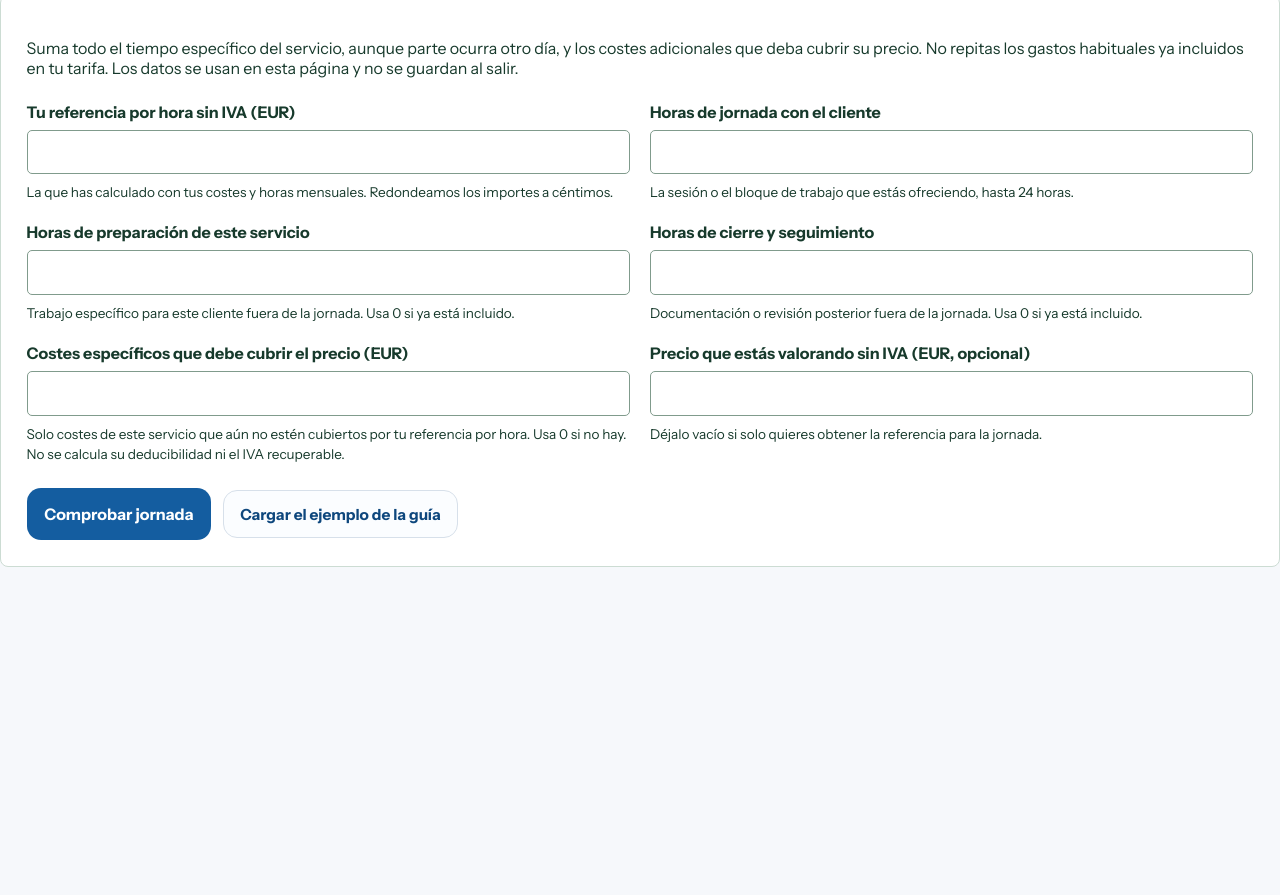
Test: day-rate planner › accepts Spanish decimals, calculates with Enter, and leaves comparison optional
The width and height of the screenshot is (1280, 895).
In the field labelled "Tu referencia por hora sin IVA (EUR)": (328, 152) [27, 130, 630, 174], type "50,50"
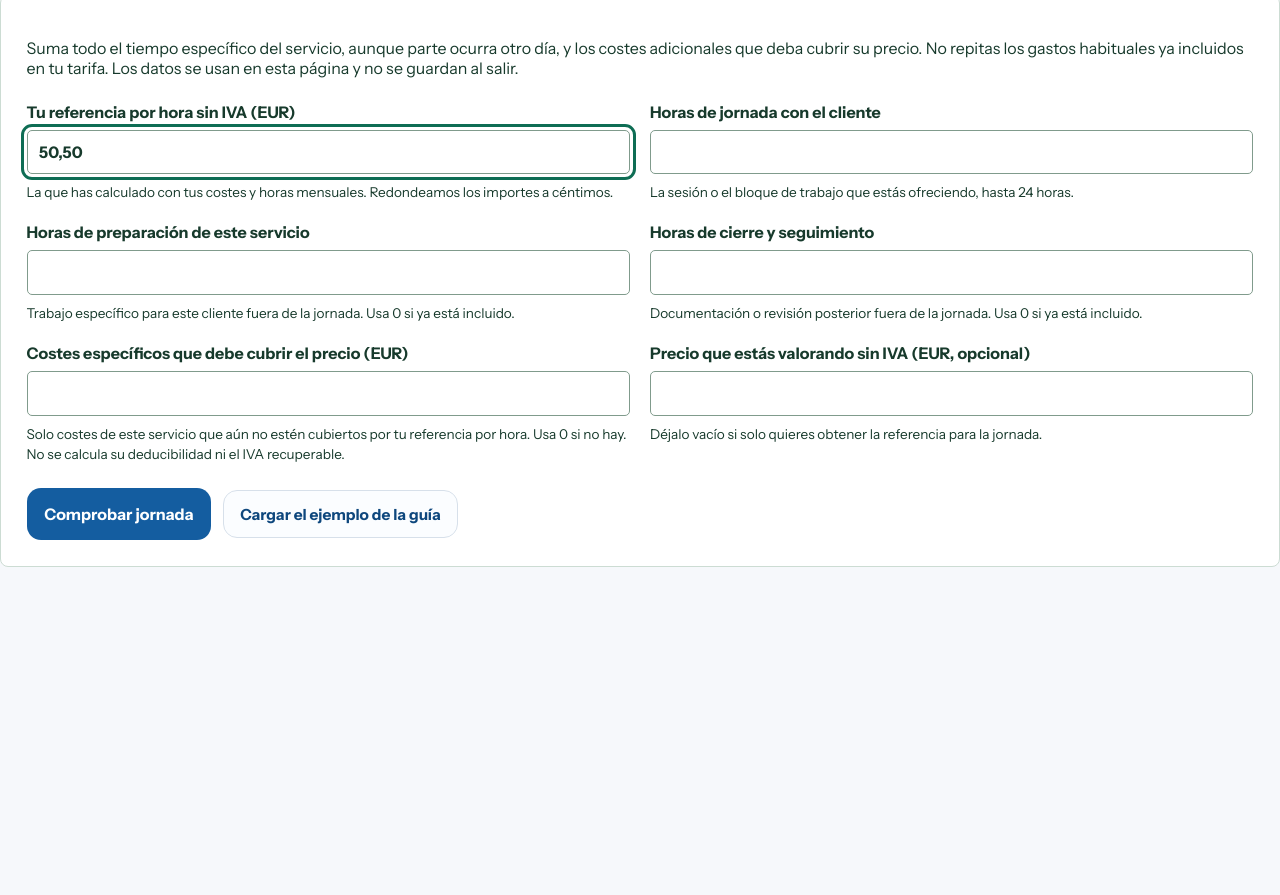
In the field labelled "Horas de jornada con el cliente": (952, 152) [650, 130, 1253, 174], type "4"
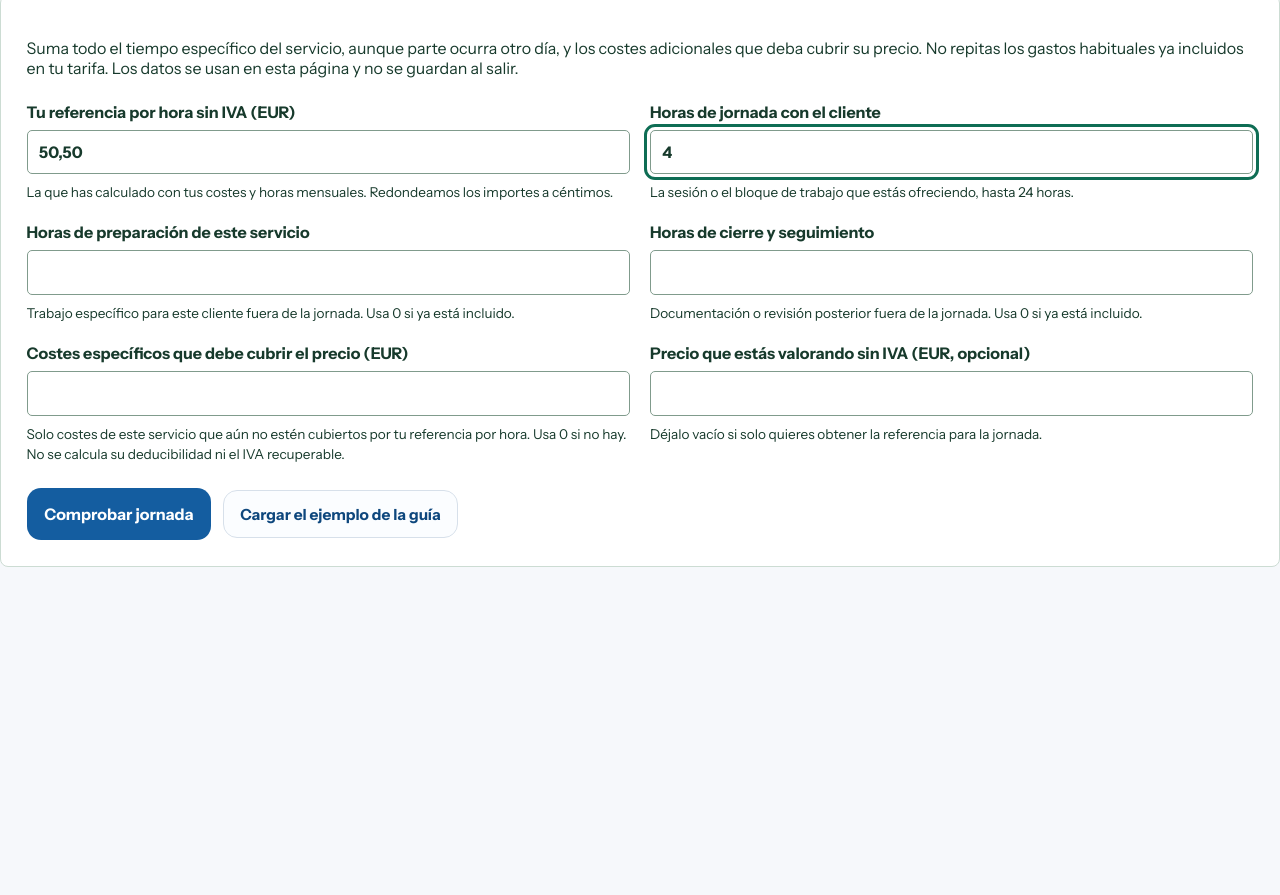
In the field labelled "Horas de preparación de este servicio": (328, 273) [27, 250, 630, 295], type "1,5"
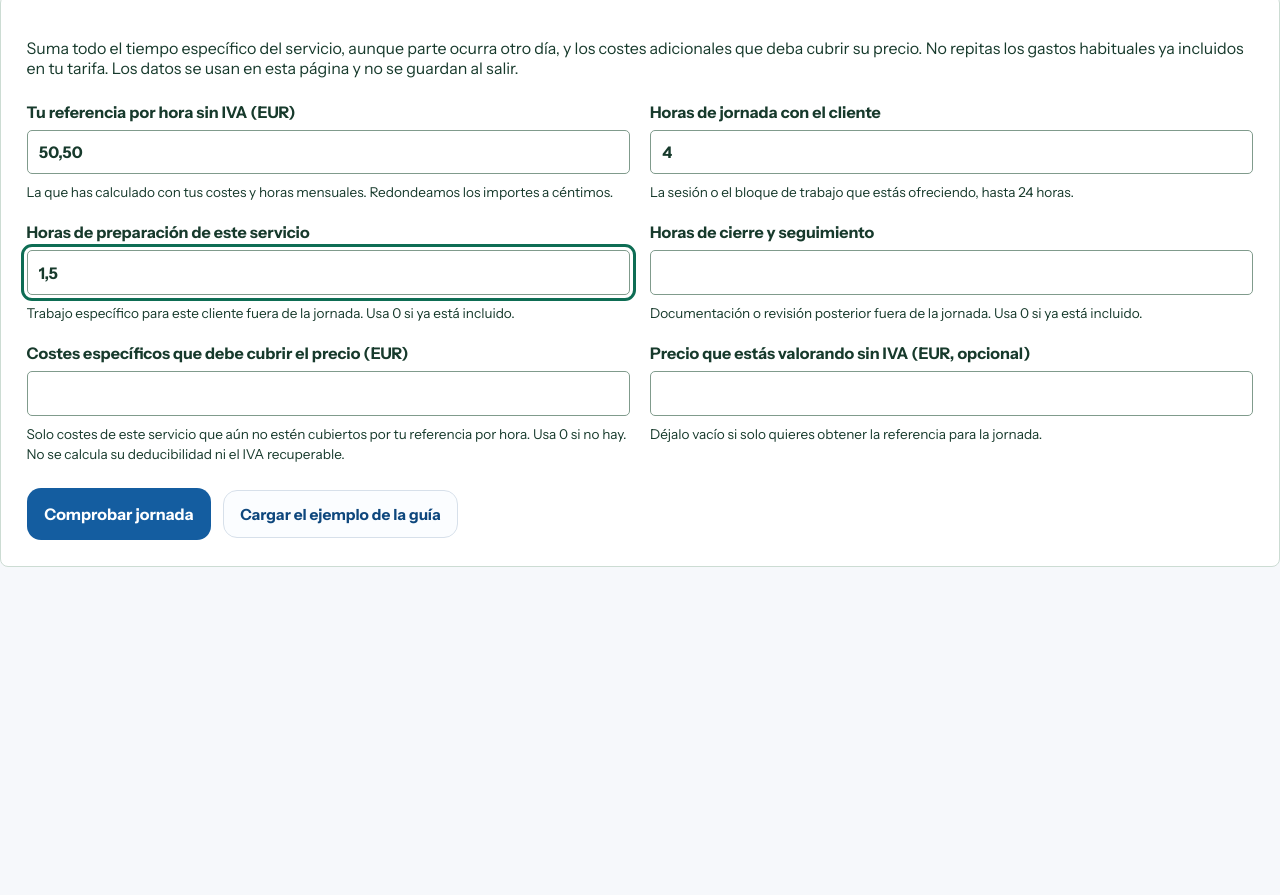
In the field labelled "Horas de cierre y seguimiento": (952, 273) [650, 250, 1253, 295], type "0,5"
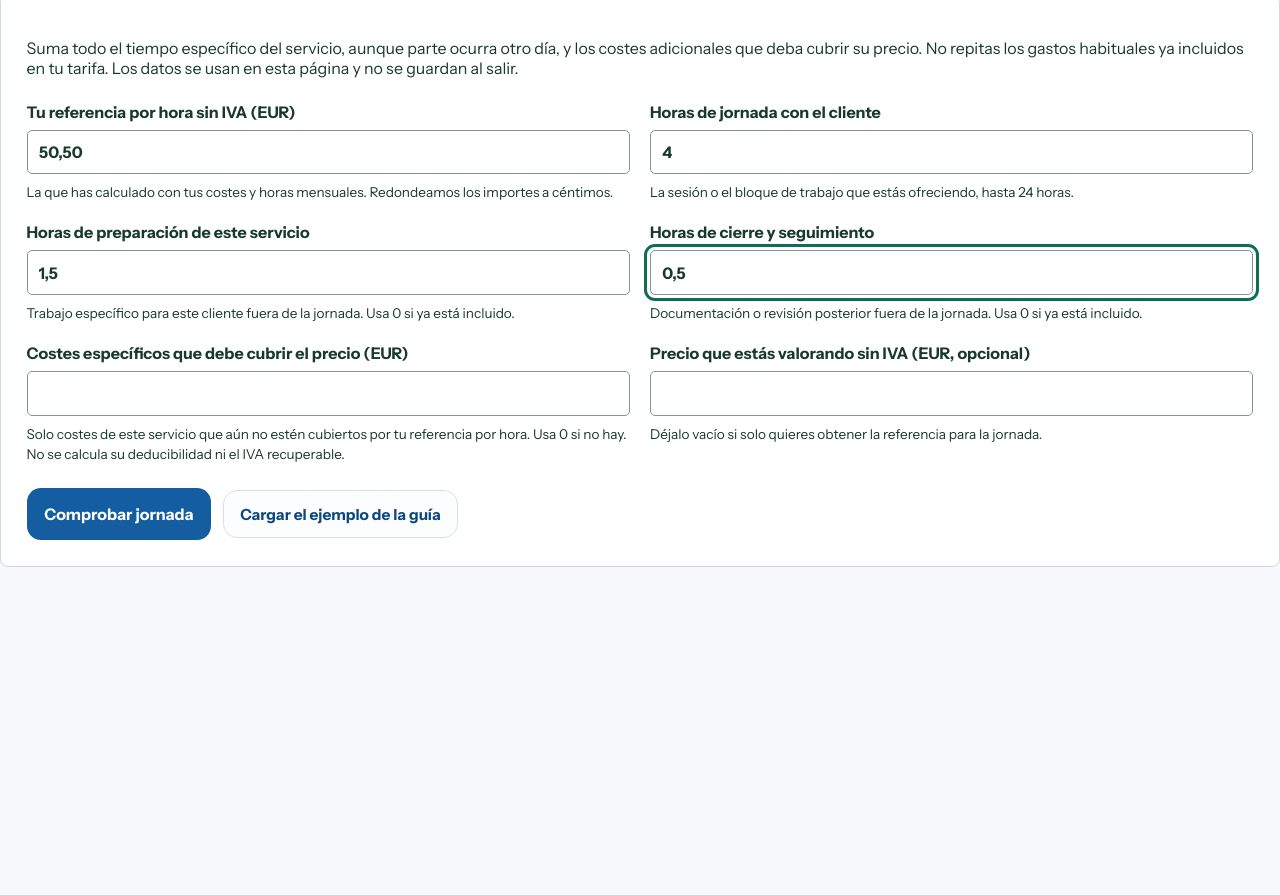
In the field labelled "Costes específicos que debe cubrir el precio (EUR)": (328, 393) [27, 371, 630, 416], type "0"
Then press Enter
(page scrolled)
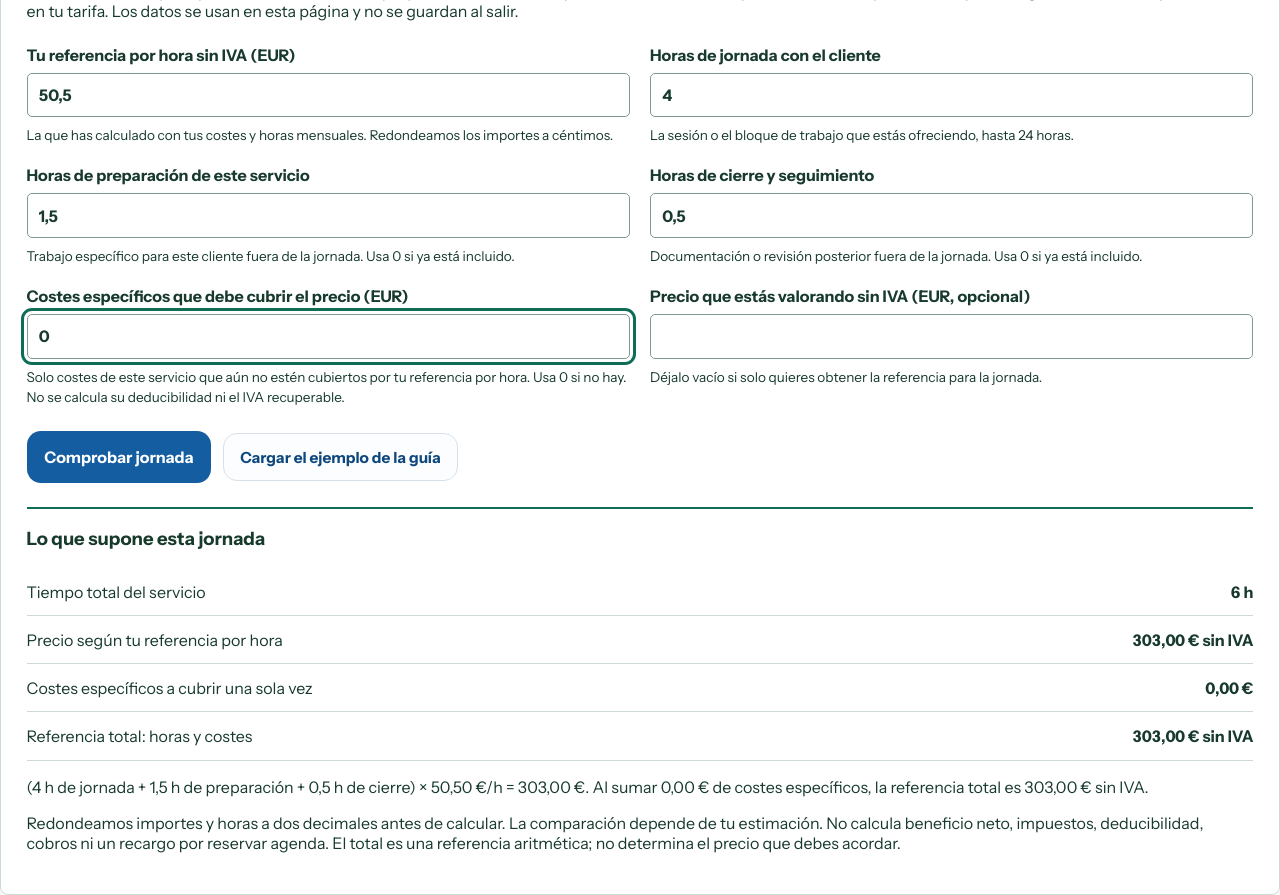
Expected: the message shows "6 h", [27, 507, 1253, 853]
Expected: the message shows "303,00", [1132, 630, 1200, 650]
